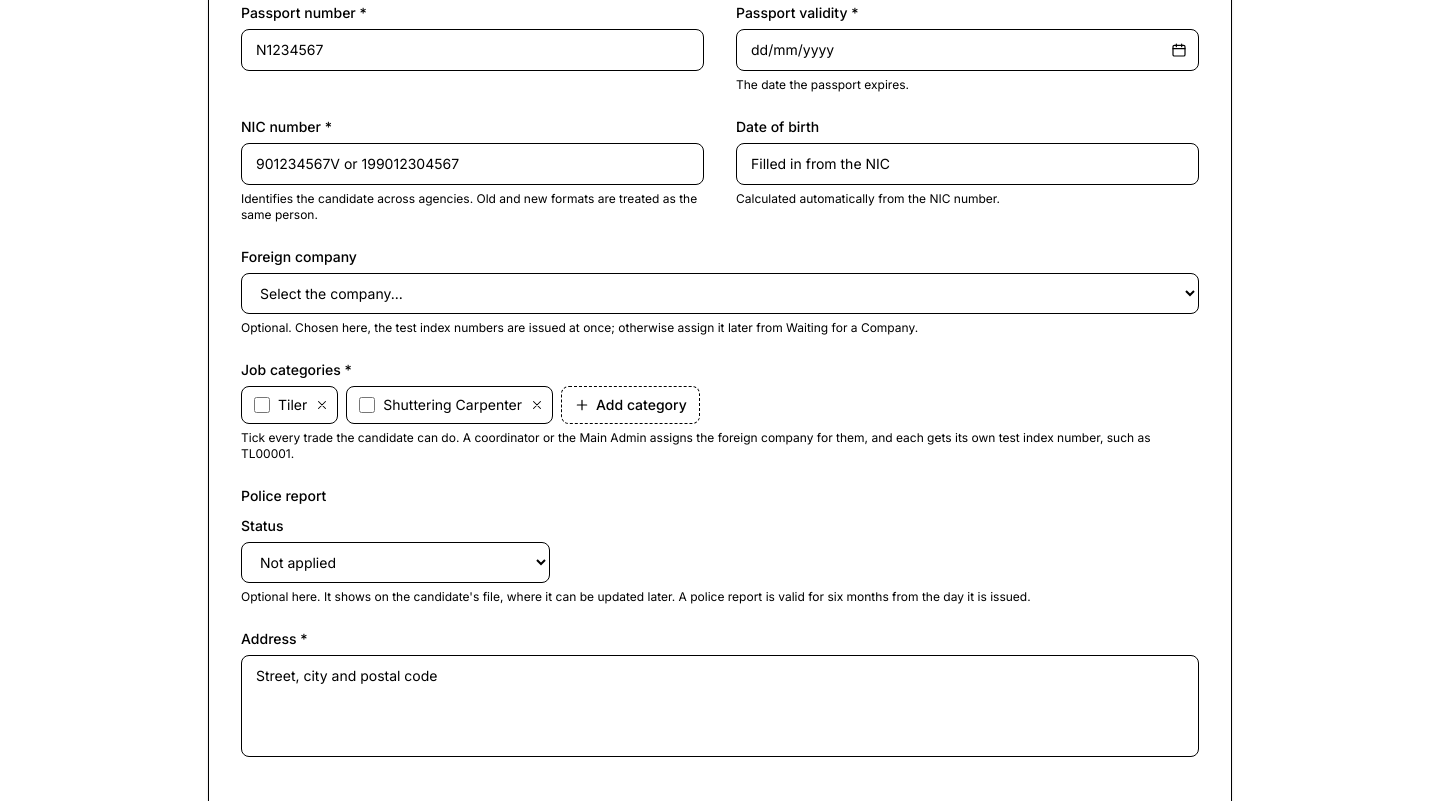
Test: registering a candidate › lets a coordinator add a job category, ticked for this candidate
(page scrolled)
Expected: the checkbox labelled "Tiler" is shown, [254, 397, 270, 413]
Click the button "Add category" at (630, 405), box [561, 386, 700, 424]
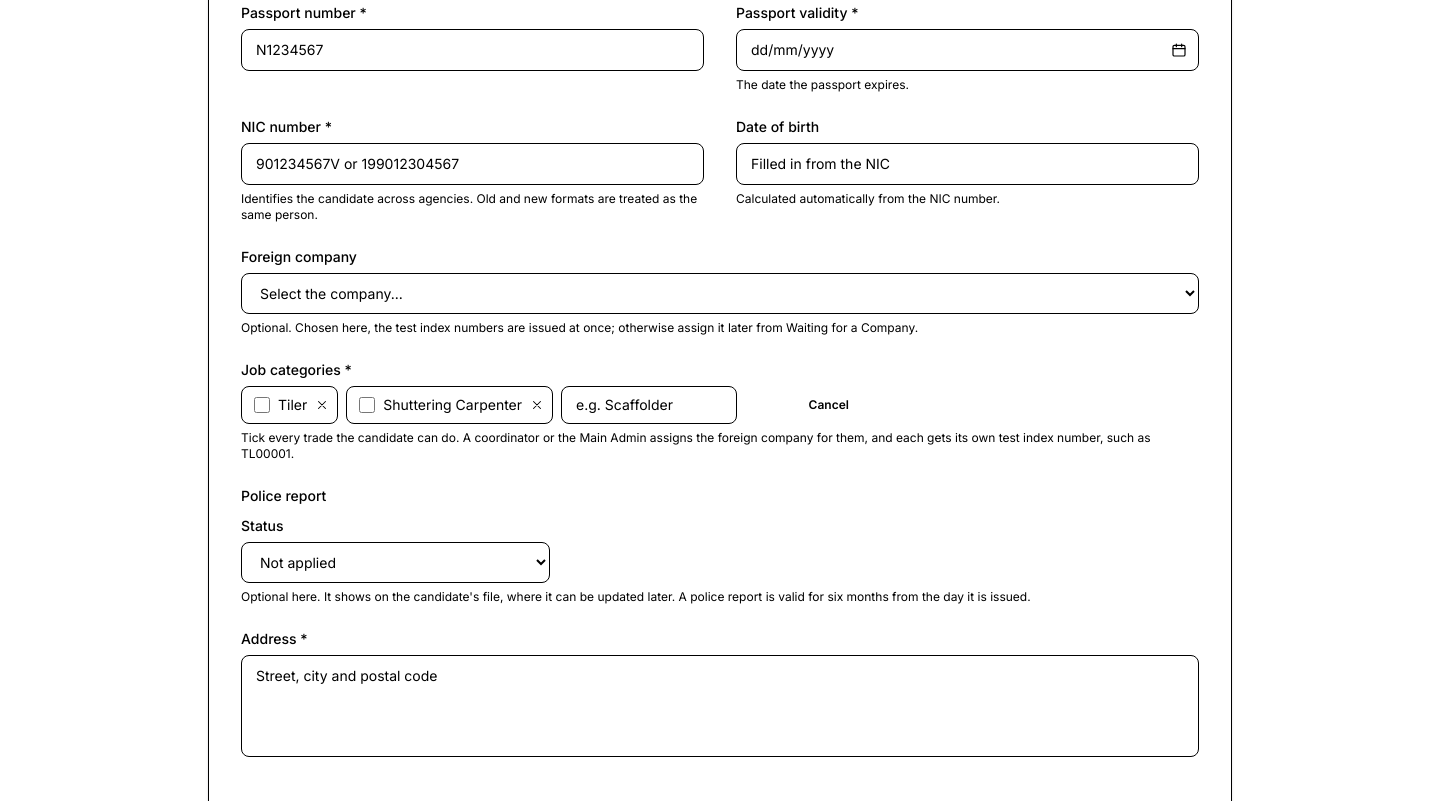
Type "Scaffolder" into the field named "new job category" at (649, 405), box [561, 386, 737, 424]
Then press Enter
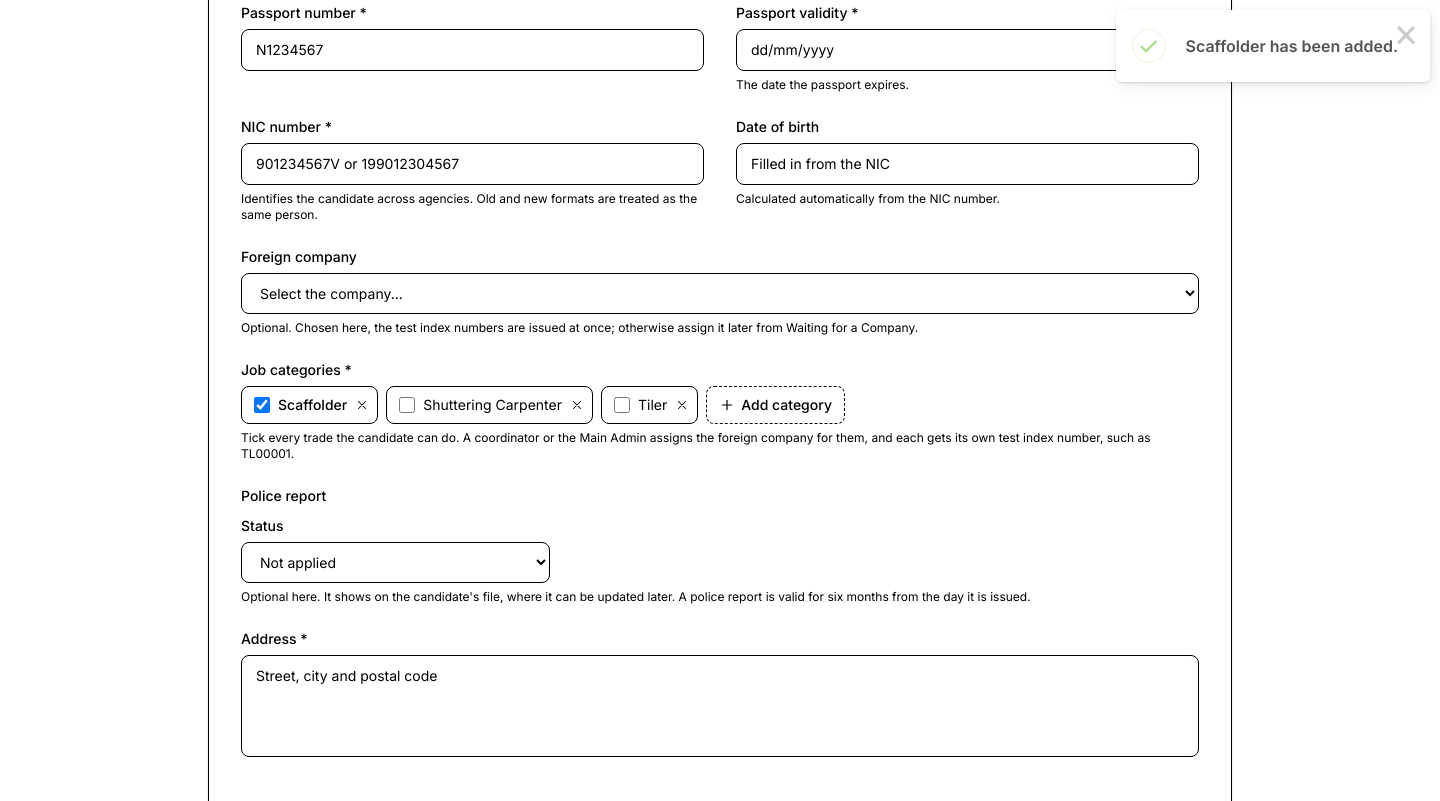
Expected: the checkbox labelled "Scaffolder" is checked, [254, 397, 270, 413]
